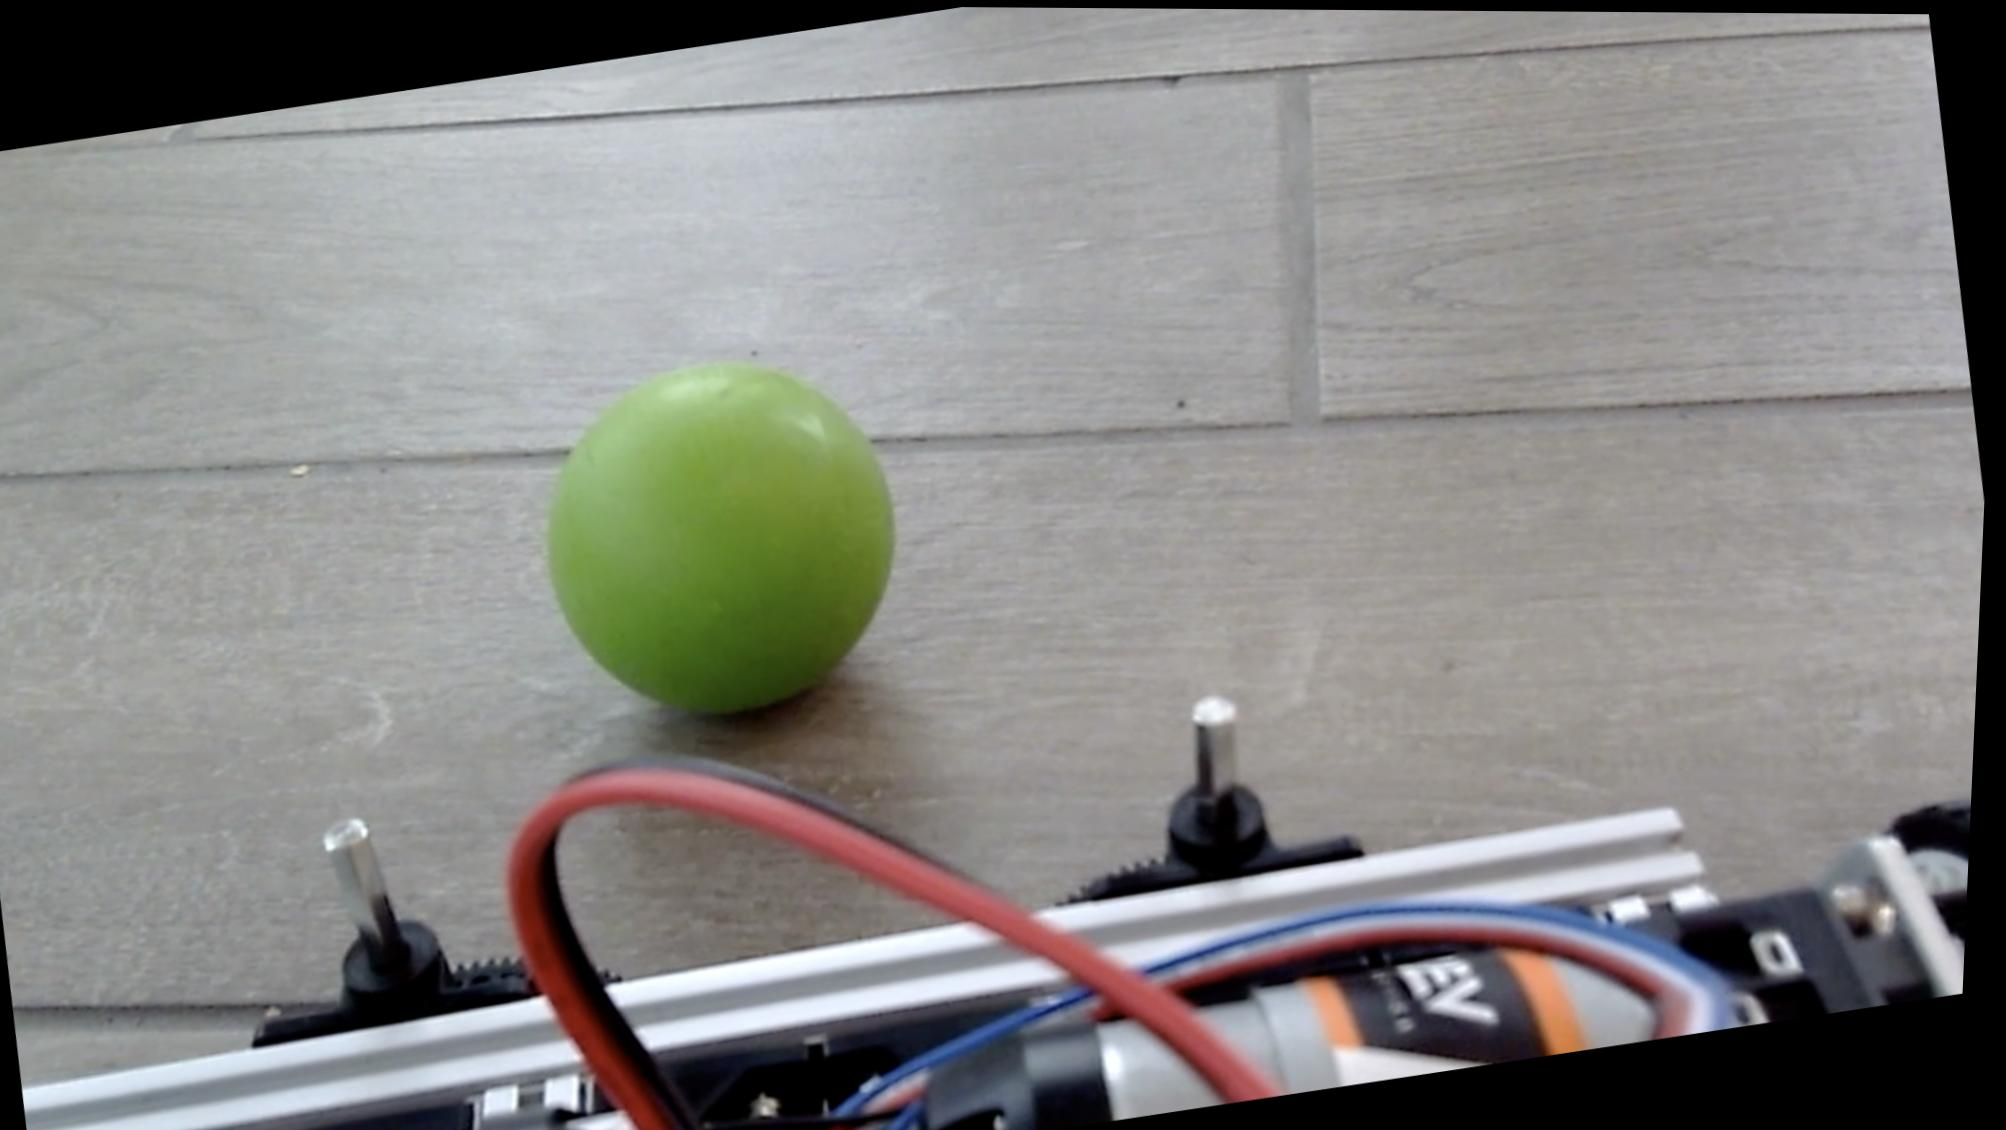greenball: (515, 328, 935, 743)
